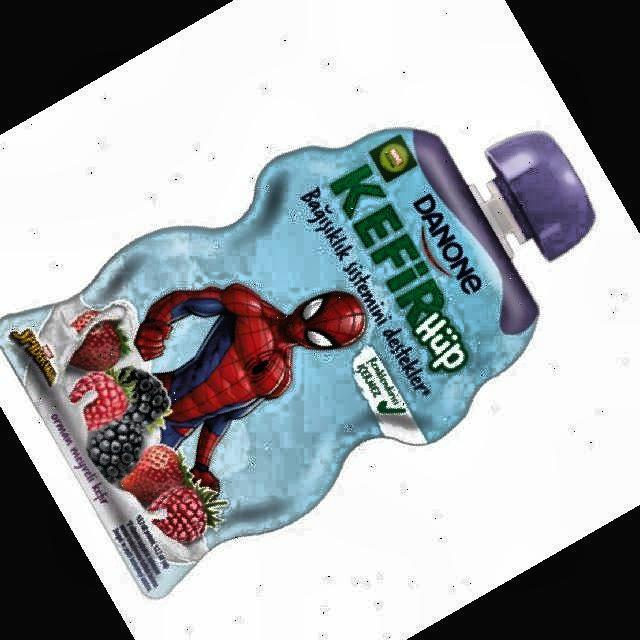plastic: (0, 129, 595, 597)
